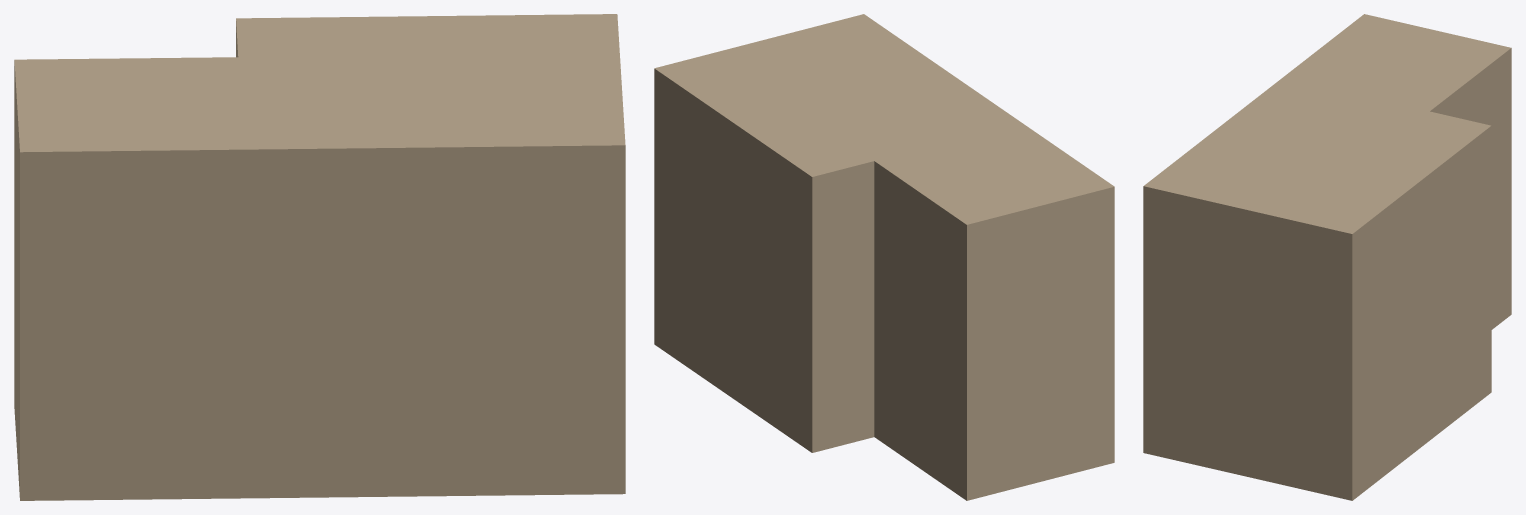
File: bld_101353666.dae
3 views of the same model, side by side, from view 1: azimuth 30°, elevation 25°; view 2: azimuth 150°, elevation 25°; view 3: azimuth 270°, elevation 25° (orthographic). The views are drawn at different scales.
Parts seen in each view (by area): view 1: bld_101353666; view 2: bld_101353666; view 3: bld_101353666.
Part boxes in pixels (box(x1,y1,x2,y2)): bld_101353666: box(14, 14, 625, 500); bld_101353666: box(654, 14, 1114, 500); bld_101353666: box(1143, 14, 1511, 500).
Size of the model in its own units: 14.15 by 10 by 8.
